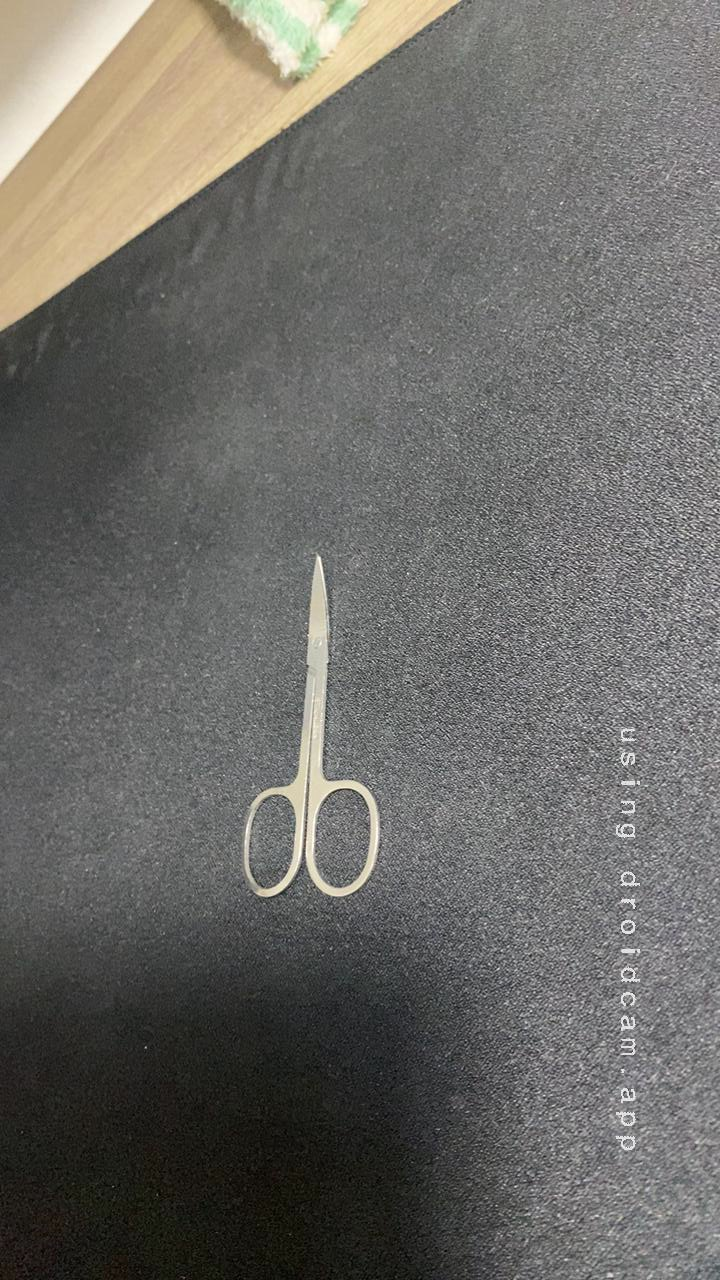scissor: (211, 551, 392, 910)
